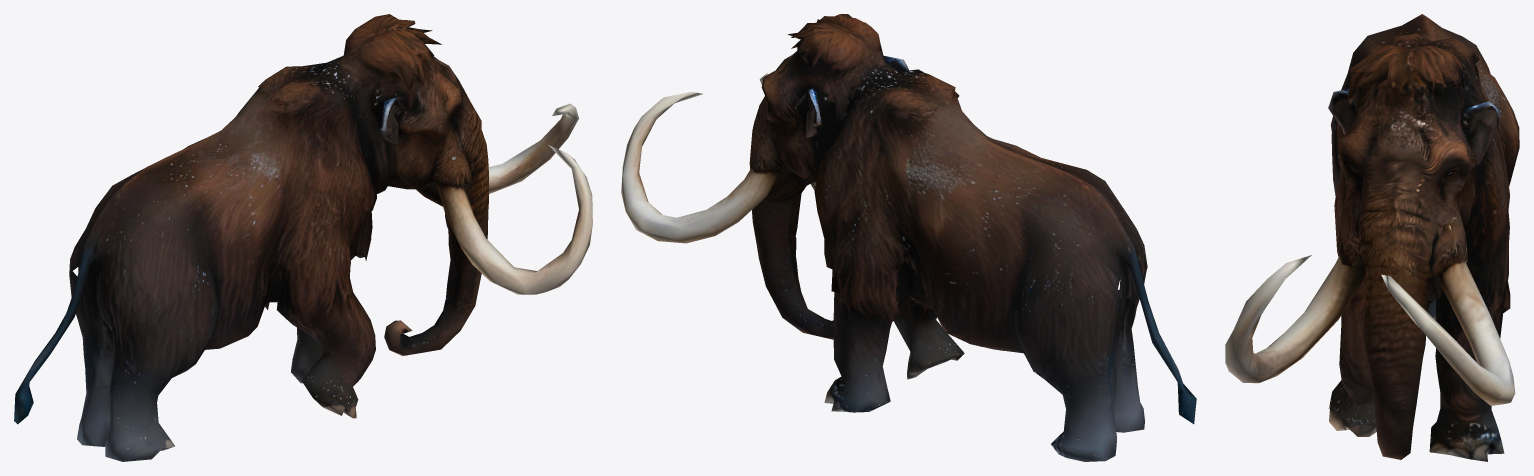
The model's file is Mamute.glb.
3 renders of one model, left to right at view 1: azimuth 30°, elevation 25°; view 2: azimuth 150°, elevation 25°; view 3: azimuth 270°, elevation 25°, orthographic. The views are drawn at different scales.
Parts seen in each view (by area): view 1: tripo_node_b56525c2-b7d7-40c3-a454-52b18fbbbce7; view 2: tripo_node_b56525c2-b7d7-40c3-a454-52b18fbbbce7; view 3: tripo_node_b56525c2-b7d7-40c3-a454-52b18fbbbce7.
Part boxes in pixels (bbox=[...]): tripo_node_b56525c2-b7d7-40c3-a454-52b18fbbbce7: bbox=[14, 14, 592, 461]; tripo_node_b56525c2-b7d7-40c3-a454-52b18fbbbce7: bbox=[621, 14, 1196, 461]; tripo_node_b56525c2-b7d7-40c3-a454-52b18fbbbce7: bbox=[1225, 14, 1519, 461].
Bounding box in the file's own units: 4.33 × 2.63 × 1.65.
Materials: 1 (1 with a texture image).
